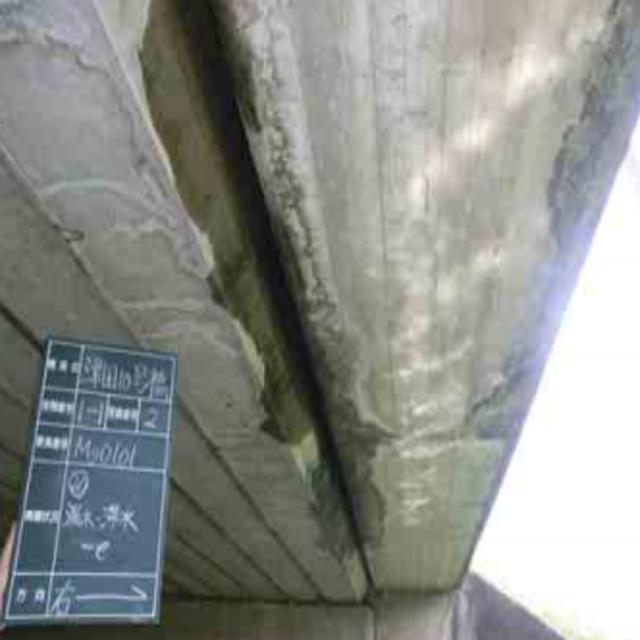leakage: (127, 4, 409, 593)
